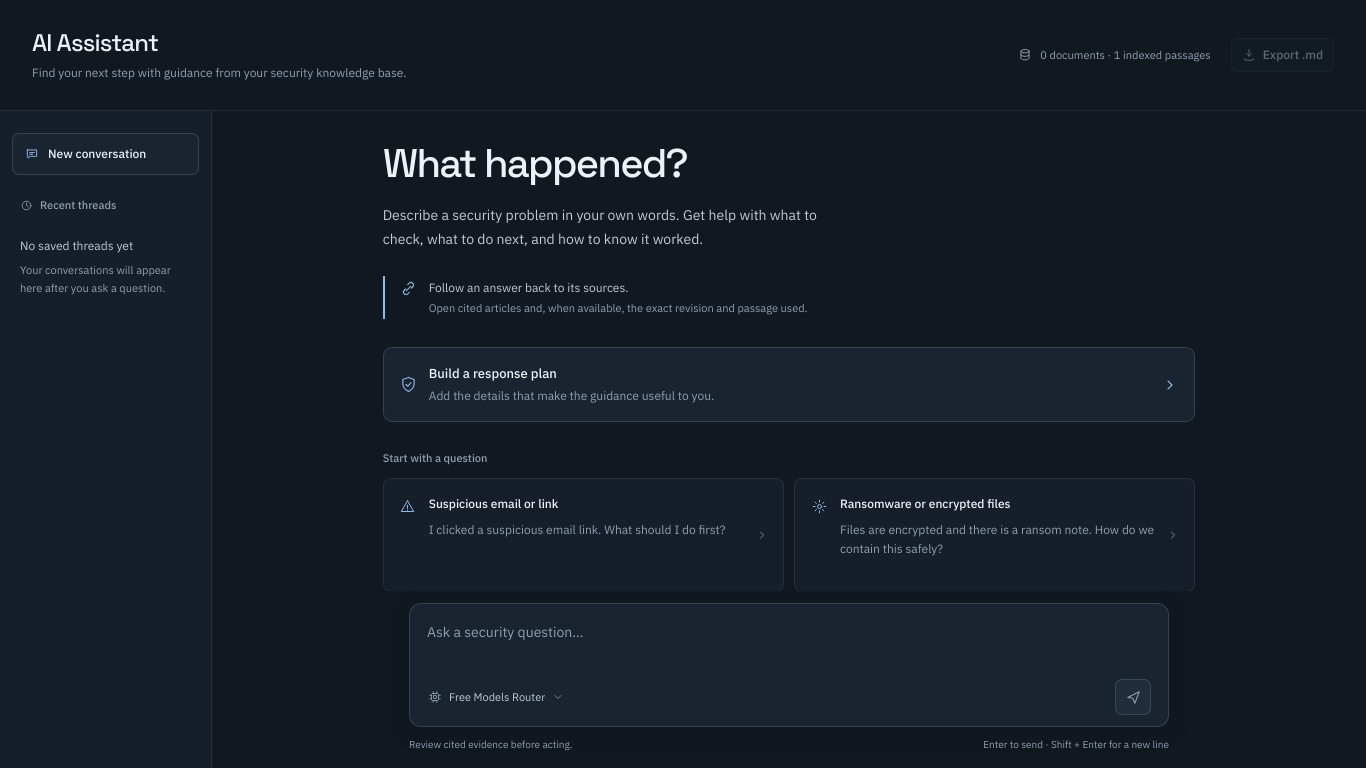
Test case: Assistant stream lifecycle › keeps legacy article citations separate from snapshot-bound exact evidence
Type "Show immutable proof" into the text box named "Technical query".
click(789, 645); type("Show immutable proof")  # box [427,621,1151,669]
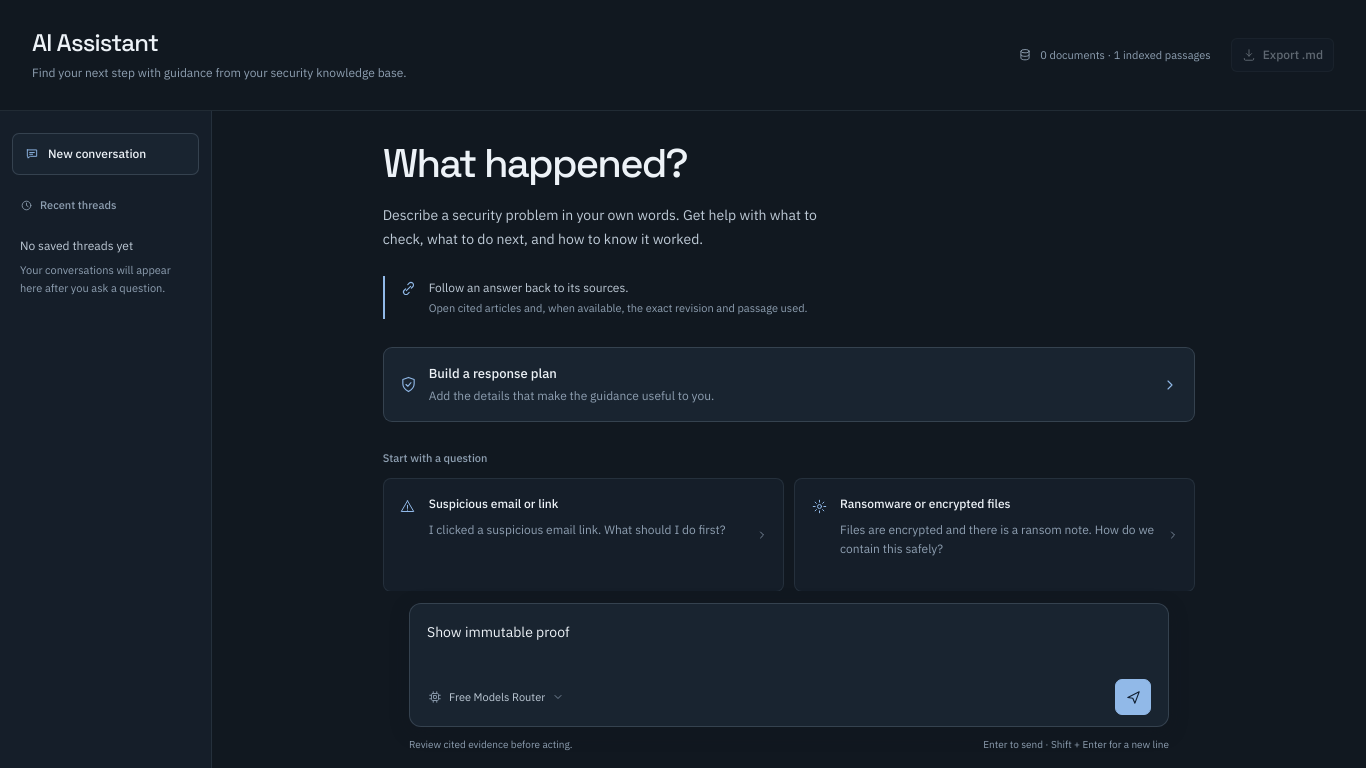
Click the button named "Send technical query".
click(1133, 697)  # box [1115,679,1151,715]
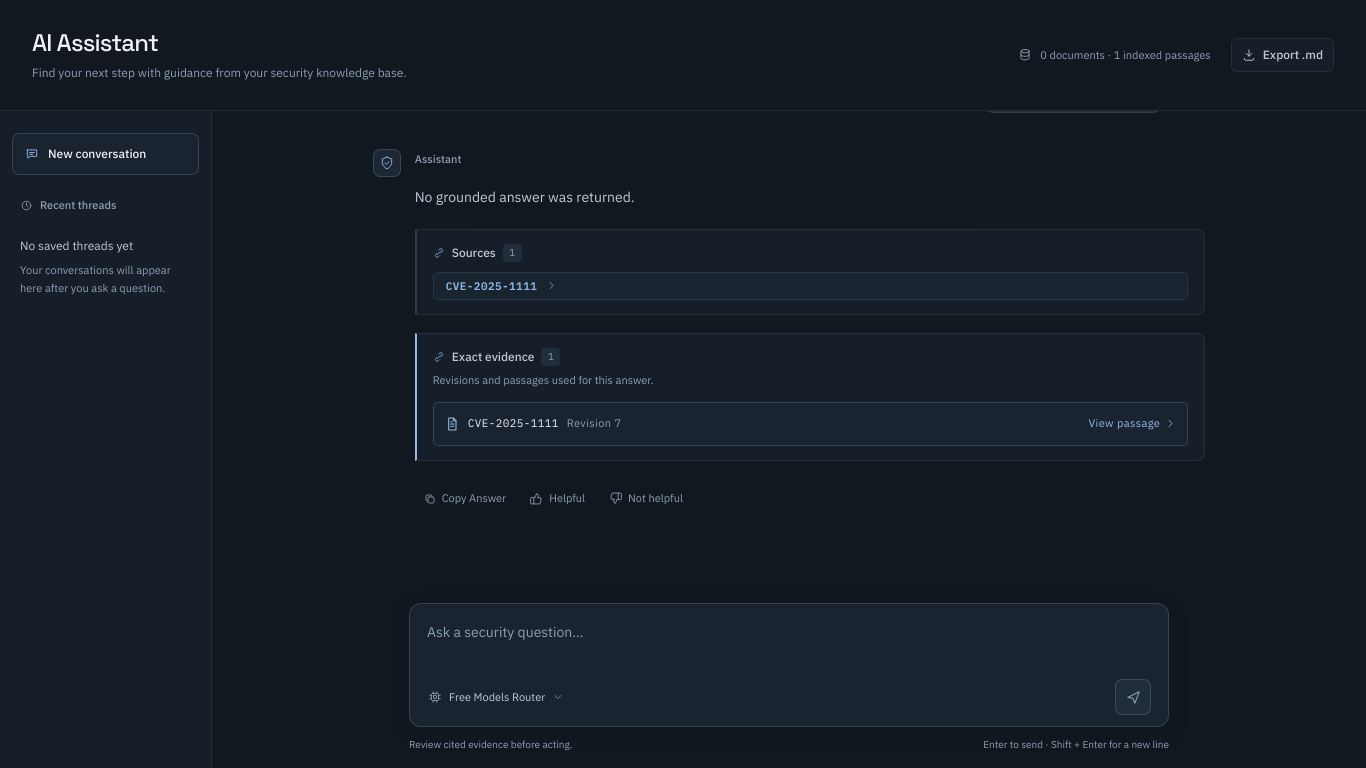
Check: the text "CVE-2025-1111" is shown 2 times, box [446,279,537,293]; [468,415,559,432]
Check: the button with aria-label "view exact evidence" is shown
Click the button with aria-label "view exact evidence".
click(513, 423)  # box [433,402,1188,446]
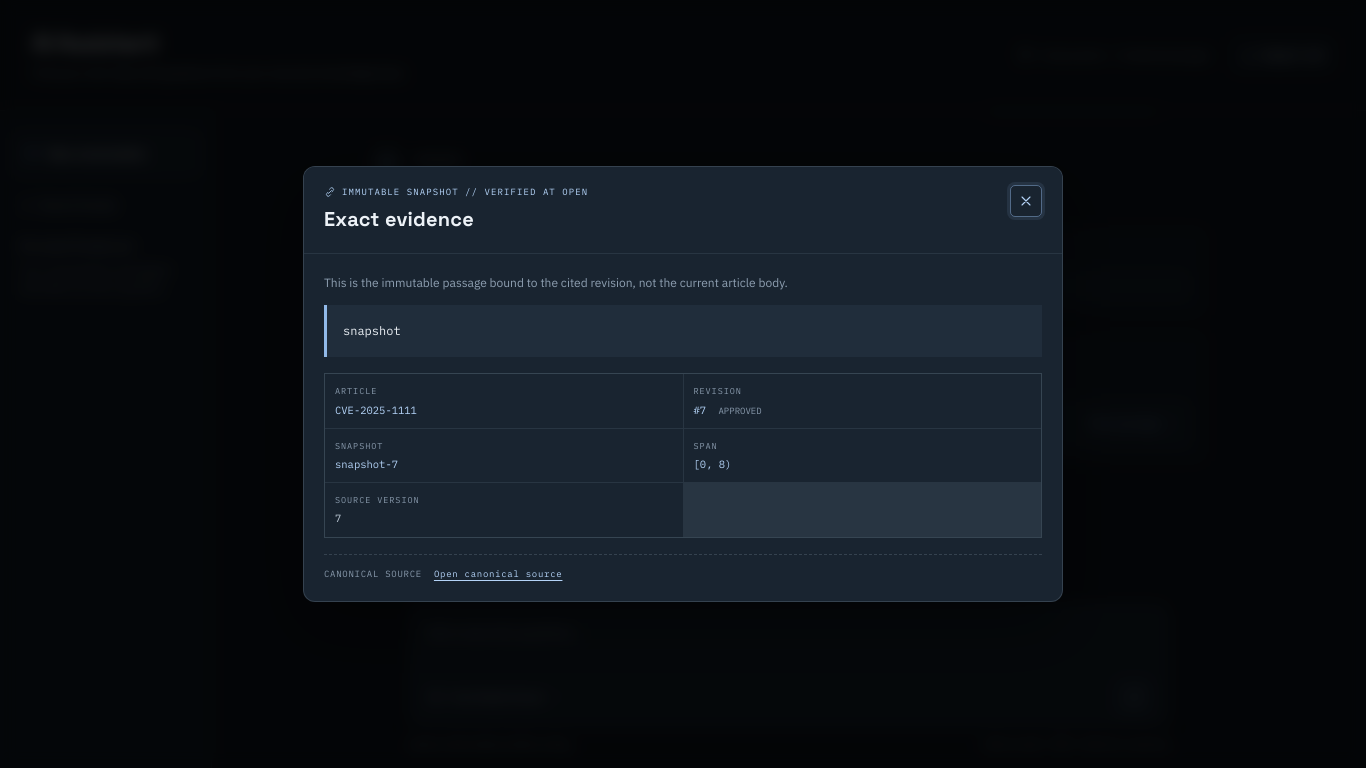
Check: the dialog "Exact evidence" is shown, box [303,166,1063,602]
